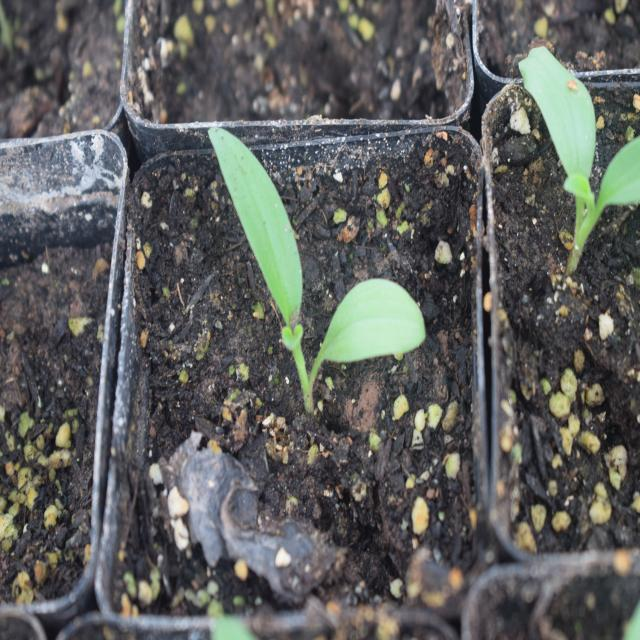Common Dayflower: (214, 122, 427, 413)
